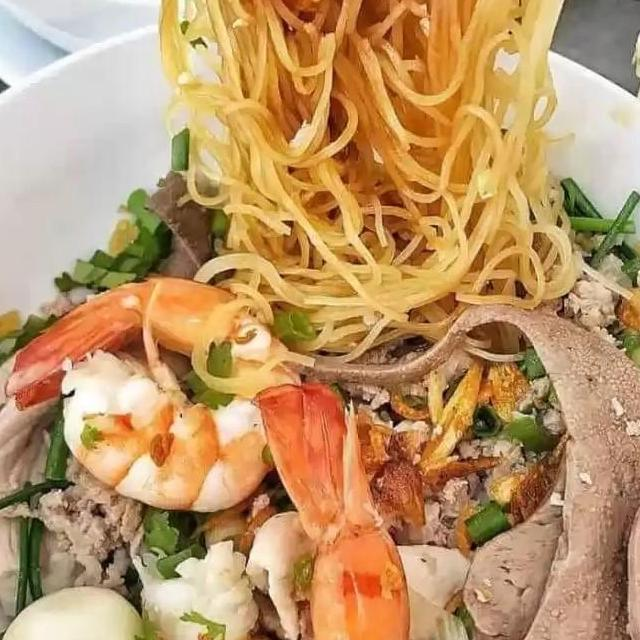banh hu tieu: (136, 0, 607, 390)
gan: (396, 273, 640, 640)
hu tieu: (0, 0, 640, 640)
thit bam: (335, 363, 579, 557), (0, 441, 162, 598), (562, 232, 640, 381)
thit heo: (0, 380, 103, 618)
tom: (116, 374, 423, 640), (0, 265, 314, 522)
trung: (0, 572, 160, 640)
